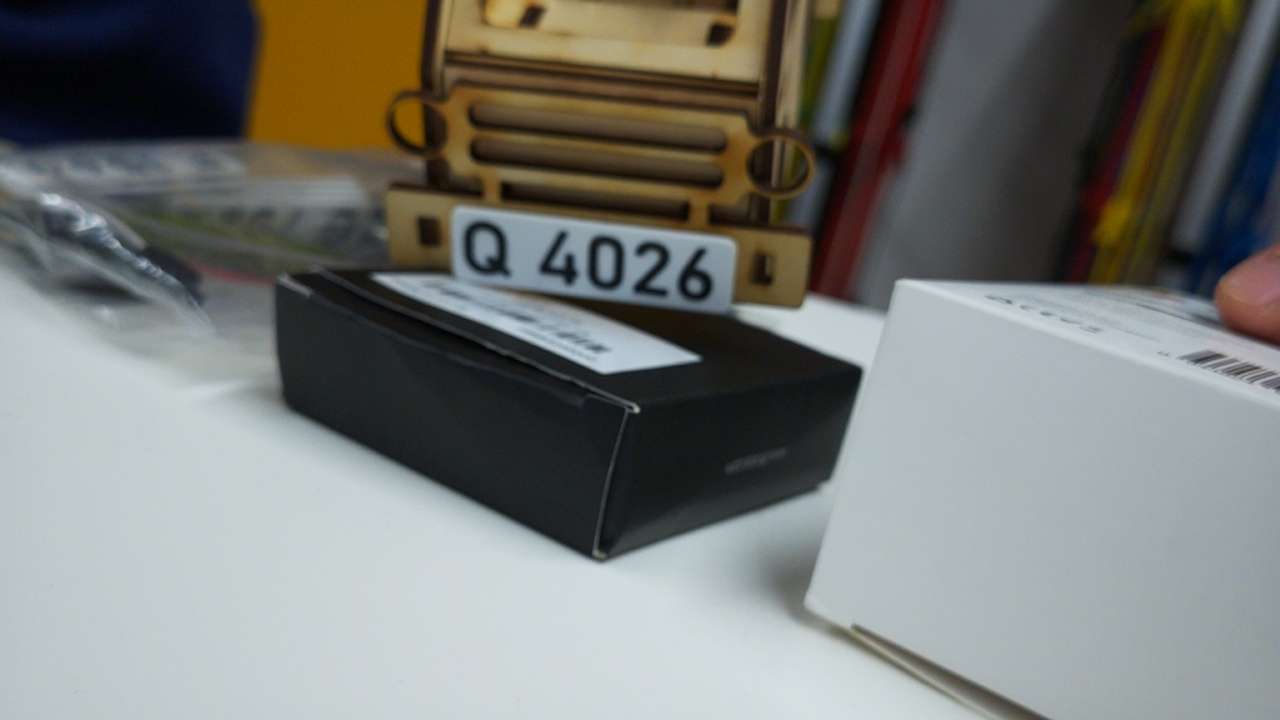license_plate: (449, 202, 738, 317)
